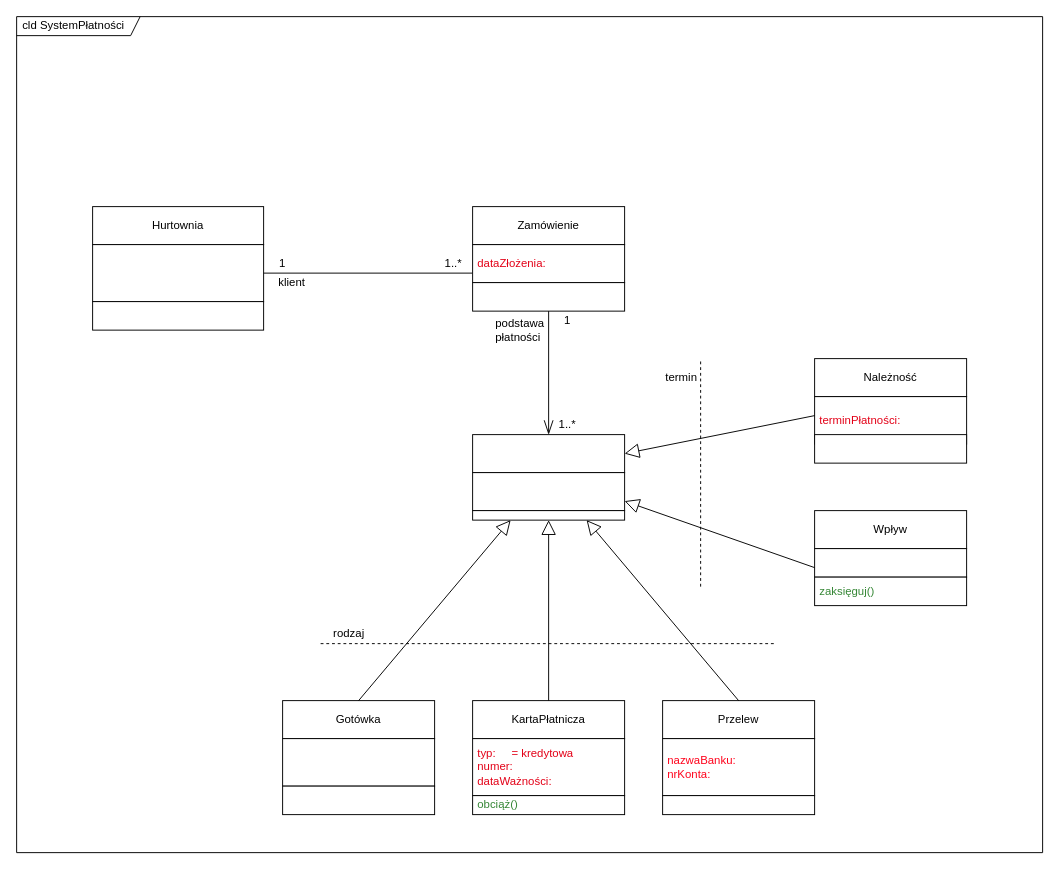
The diagram is 1060 pixels wide and 870 high, and some of its shapes have lost their labels. Here are the shapes that lost their labels. From the top down, the box of each, then its label:
(92, 244, 264, 302): nazwa: adres:
(472, 434, 625, 473): Płatność
(472, 472, 625, 511): suma:
(282, 738, 435, 786): kwotaPrzekazania:
